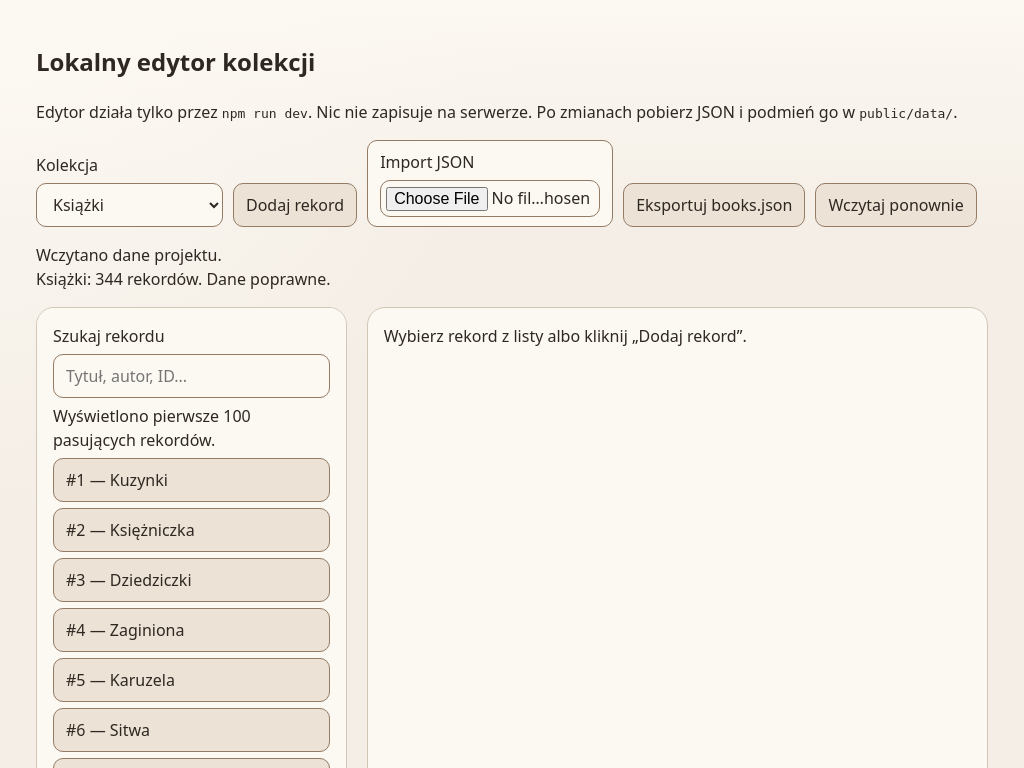
Test: collection editor › adds a language version and a format, and refuses an empty version
The image size is (1024, 768).
Expected: the text "Wczytano dane projektu." is shown, [36, 244, 222, 266]
Click the button "#1 — Kuzynki". click: {"x": 139, "y": 480}
box: [53, 458, 330, 502]
(page scrolled)
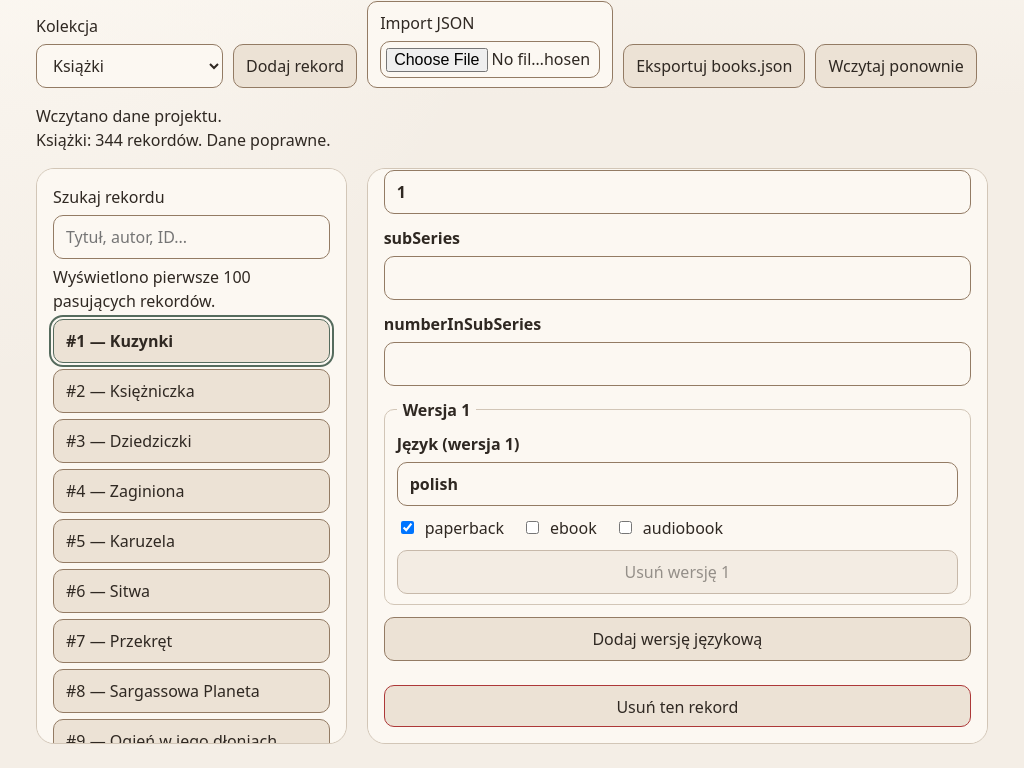
Expected: the checkbox labelled "ebook" is not checked
Click the checkbox labelled "ebook". click: {"x": 532, "y": 528}
box: [526, 521, 539, 534]
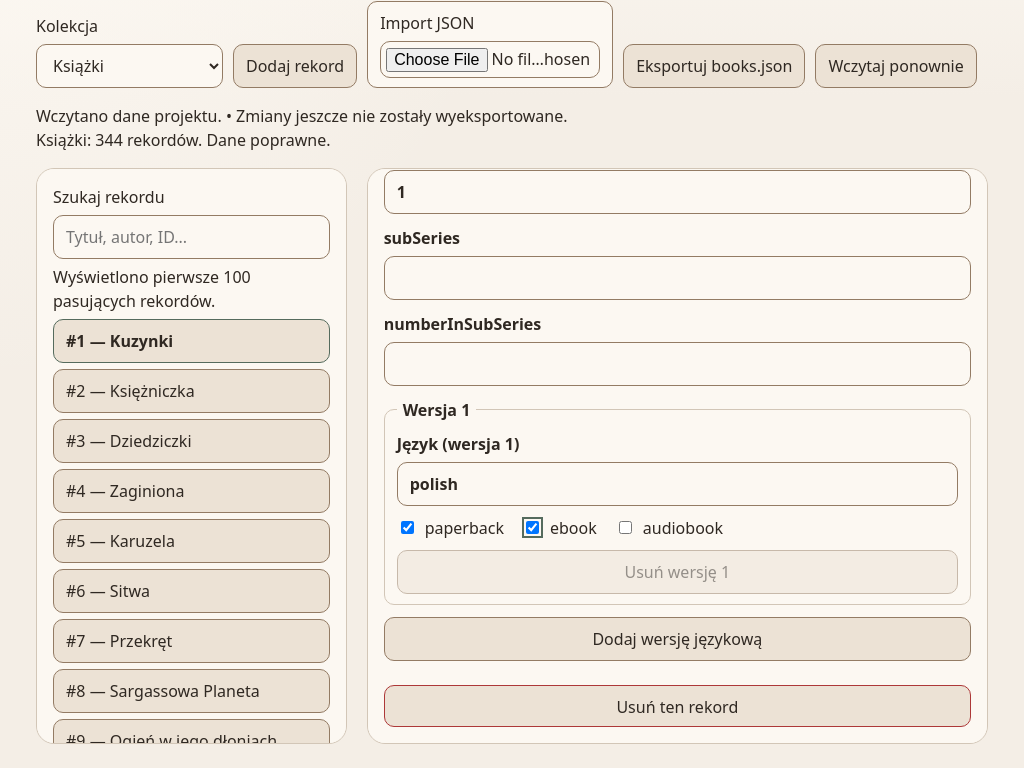
Expected: the checkbox labelled "ebook" is checked, [526, 521, 539, 534]
# Add an English version: it is invalid until a language is typed.
Click the button "Dodaj wersję językową". click: {"x": 677, "y": 639}
box: [384, 617, 971, 661]
(page scrolled)
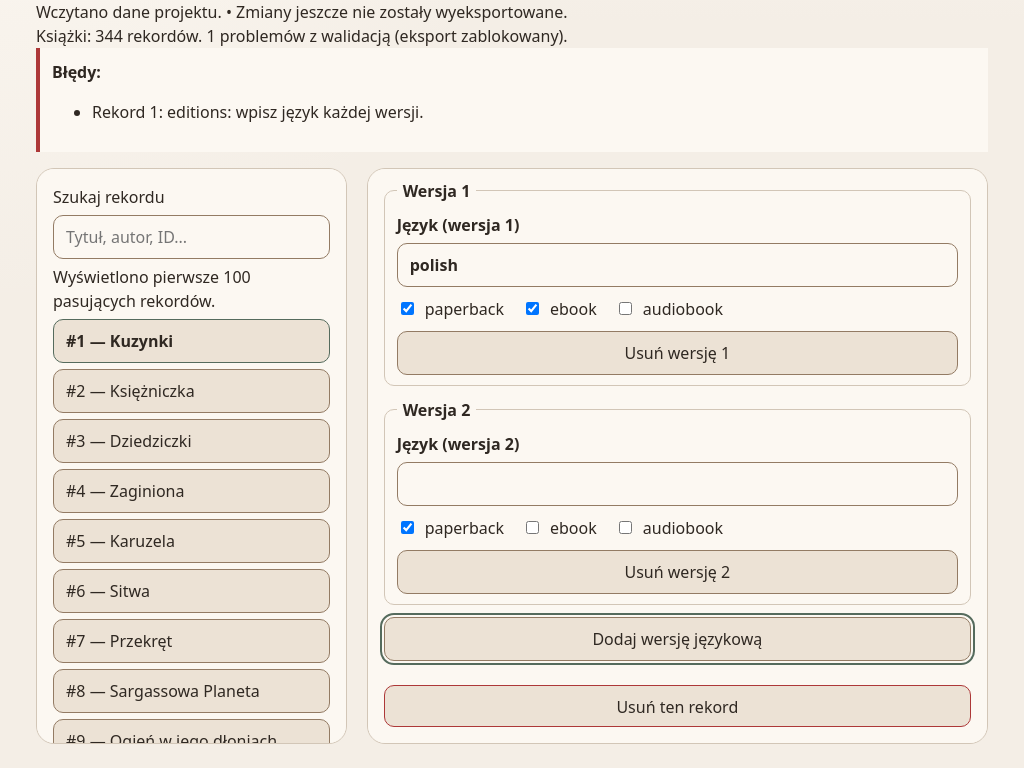
Expected: the message "Błędy: Rekord 1: editions: wpisz język każdej wersji." is shown, [36, 48, 988, 152]
Type "english" into the field labelled "Język (wersja 2)". click: {"x": 677, "y": 484}
box: [397, 462, 958, 506]
(page scrolled)
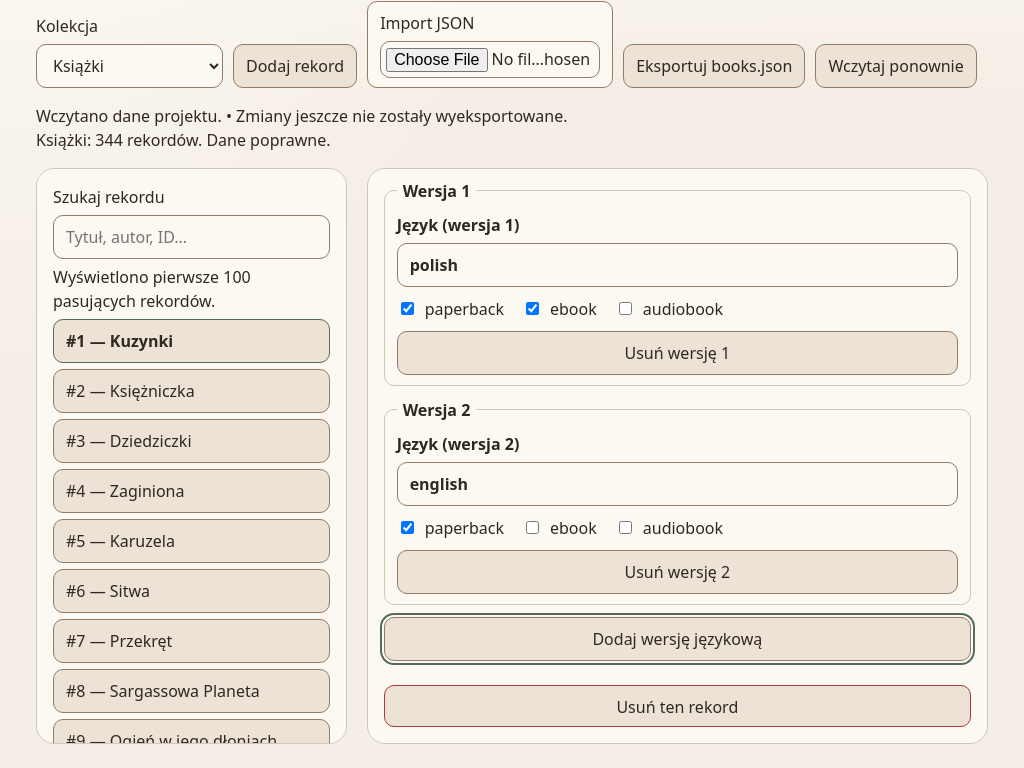
Expected: the message "Błędy: Rekord 1: editions: wpisz język każdej wersji." is gone
Expected: the button "Eksportuj books.json" is enabled, [623, 44, 805, 88]
# The last remaining version cannot be removed.
Click the button "Usuń wersję 2". click: {"x": 677, "y": 572}
box: [397, 550, 958, 594]
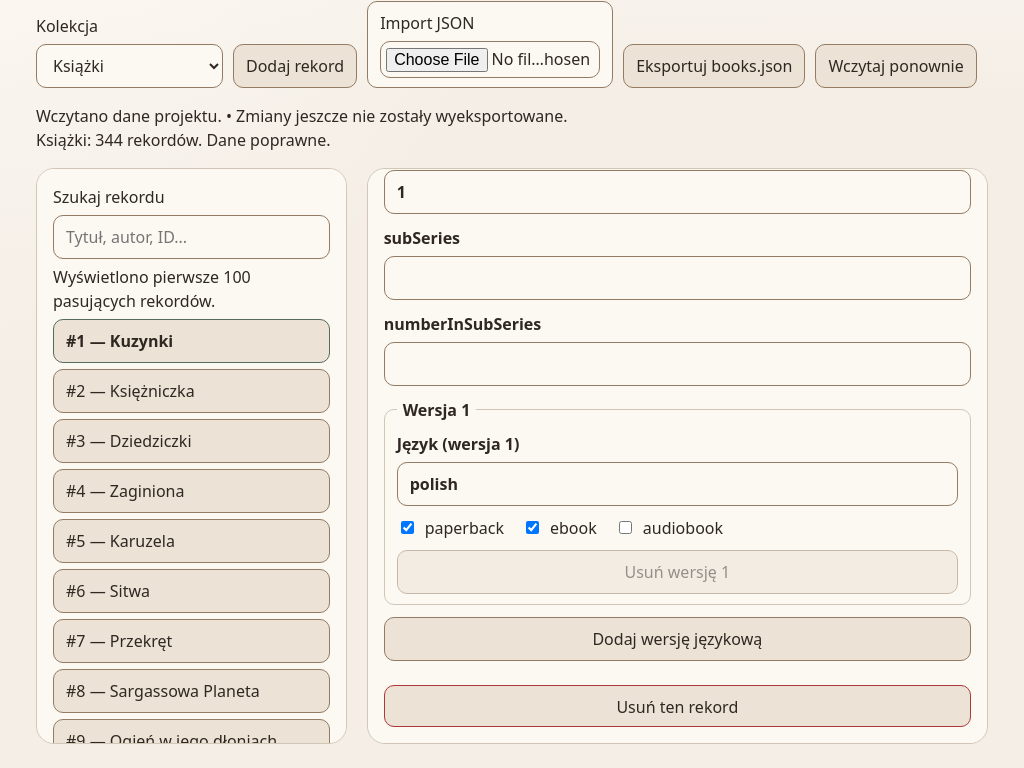
Expected: the button "Usuń wersję 1" is disabled, [397, 550, 958, 594]
